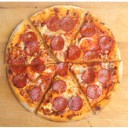pepperonipizza: (6, 4, 123, 120)
